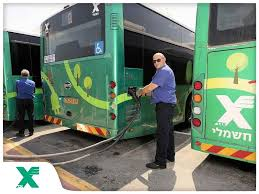bus: (41, 2, 196, 143), (190, 3, 256, 169), (1, 30, 44, 124)
